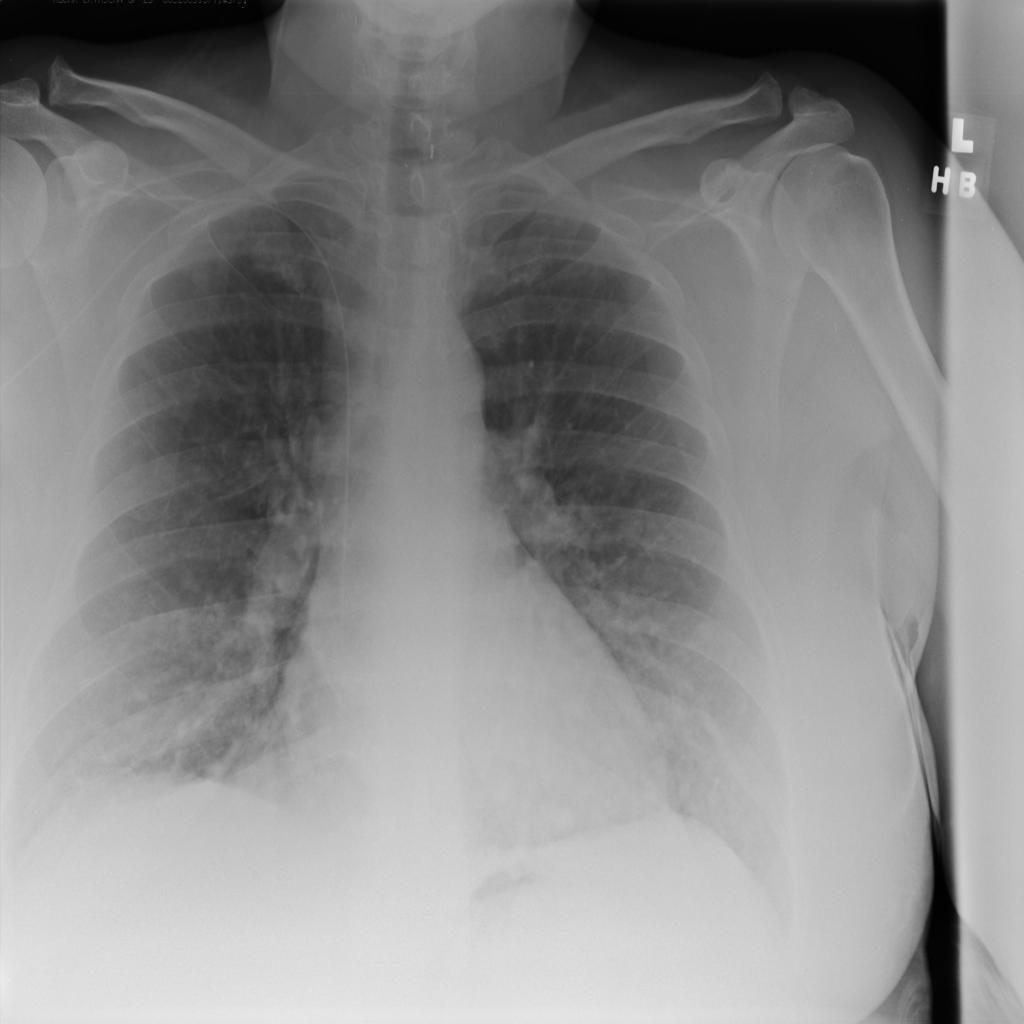nodule: (517, 788, 597, 857), (577, 283, 642, 359)
